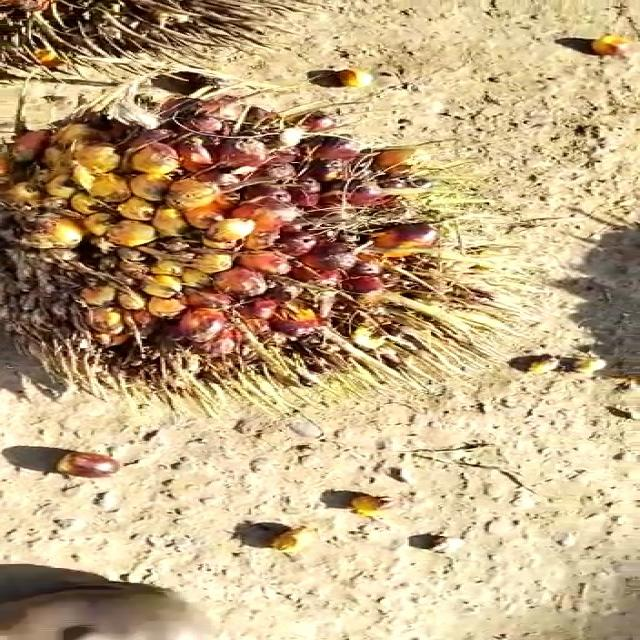palm oil: (0, 100, 464, 401)
